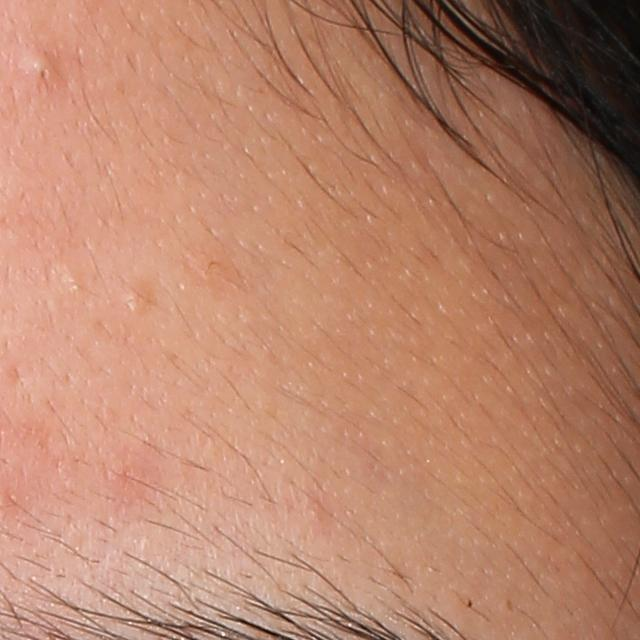comedo: (26, 50, 56, 84), (125, 287, 152, 315)
